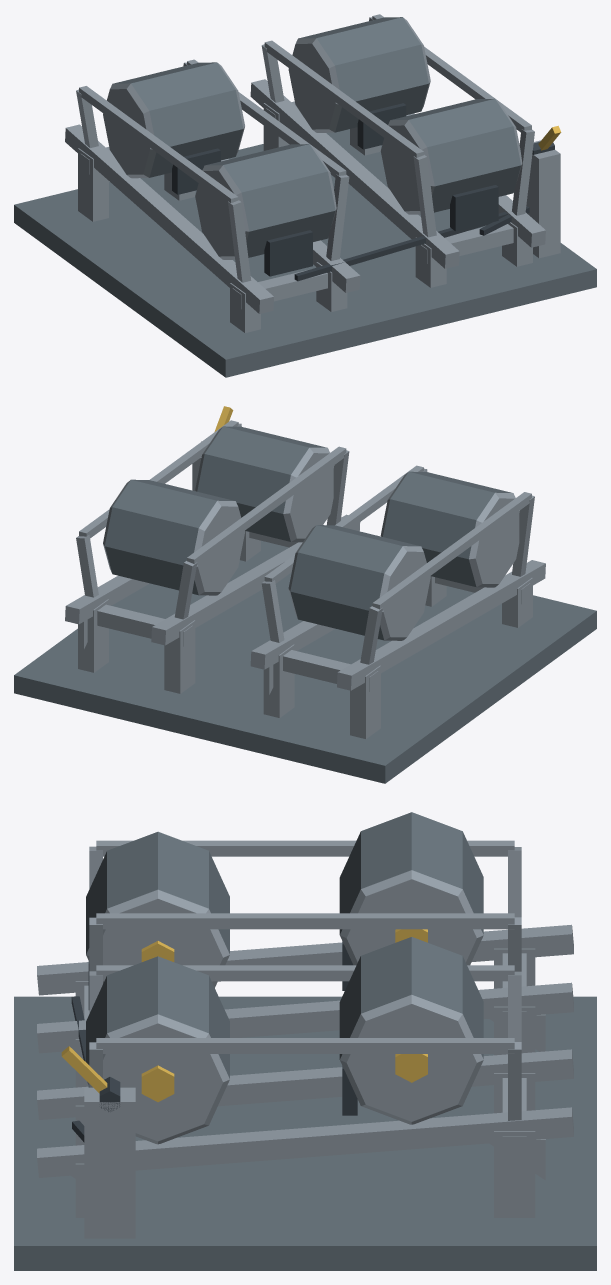
The model's file is MOD_DepthChargeRack.glb.
3 views of the same model, one above another, from view 1: azimuth 30°, elevation 25°; view 2: azimuth 150°, elevation 25°; view 3: azimuth 270°, elevation 25° (orthographic). The views are drawn at different scales.
Parts seen in each view (by area): view 1: DepthRackMountPlate, DepthCharge_04, DepthCharge_02, DepthCharge_03, DepthCharge_01, Rack_01_InclinedRail_01, Rack_02_InclinedRail_01, LocalReleasePedestal, Rack_01_GuardBeam_01, Rack_02_GuardBeam_01, Rack_02_ReleaseDetent_01, Rack_01_ReleaseDetent_01 (+21 smaller); view 2: DepthRackMountPlate, DepthCharge_04, DepthCharge_02, DepthCharge_01, DepthCharge_03, Rack_01_InclinedRail_01, Rack_02_InclinedRail_01, Rack_01_GuardBeam_01, Rack_02_GuardBeam_01, Rack_02_Support_01_02, Rack_01_Support_01_02, Rack_01_InclinedRail_02 (+14 smaller); view 3: DepthRackMountPlate, DepthCharge_04, DepthCharge_03, DepthCharge_02, Rack_02_InclinedRail_02, DepthCharge_01, LocalReleasePedestal, Rack_02_InclinedRail_01, Rack_01_GuardBeam_02, Rack_01_InclinedRail_02, Rack_02_GuardBeam_02, Rack_01_InclinedRail_01 (+15 smaller).
Part boxes in pixels (x1=…): DepthRackMountPlate: x1=14, y1=129, x2=596, y2=377; DepthCharge_04: x1=288, y1=17, x2=430, y2=132; DepthCharge_02: x1=103, y1=62, x2=244, y2=178; DepthCharge_03: x1=380, y1=98, x2=522, y2=214; DepthCharge_01: x1=195, y1=144, x2=336, y2=259; Rack_01_InclinedRail_01: x1=65, y1=124, x2=273, y2=313; Rack_02_InclinedRail_01: x1=250, y1=79, x2=459, y2=268; LocalReleasePedestal: x1=526, y1=140, x2=560, y2=258; Rack_01_GuardBeam_01: x1=79, y1=86, x2=238, y2=204; Rack_02_GuardBeam_01: x1=264, y1=40, x2=423, y2=159; Rack_02_ReleaseDetent_01: x1=450, y1=185, x2=498, y2=231; Rack_01_ReleaseDetent_01: x1=264, y1=230, x2=312, y2=276; DepthRackMountPlate: x1=14, y1=540, x2=596, y2=783; DepthCharge_04: x1=103, y1=479, x2=244, y2=595; DepthCharge_02: x1=288, y1=525, x2=430, y2=640; DepthCharge_01: x1=380, y1=471, x2=519, y2=587; DepthCharge_03: x1=195, y1=426, x2=333, y2=542; Rack_01_InclinedRail_01: x1=337, y1=560, x2=545, y2=690; Rack_02_InclinedRail_01: x1=151, y1=514, x2=360, y2=645; Rack_01_GuardBeam_01: x1=372, y1=492, x2=531, y2=612; Rack_02_GuardBeam_01: x1=187, y1=446, x2=346, y2=567; Rack_02_Support_01_02: x1=164, y1=620, x2=195, y2=693; Rack_01_Support_01_02: x1=350, y1=665, x2=380, y2=738; Rack_01_InclinedRail_02: x1=250, y1=621, x2=334, y2=669; DepthRackMountPlate: x1=14, y1=996, x2=596, y2=1270; DepthCharge_04: x1=339, y1=937, x2=483, y2=1124; DepthCharge_03: x1=86, y1=956, x2=229, y2=1144; DepthCharge_02: x1=339, y1=812, x2=483, y2=965; Rack_02_InclinedRail_02: x1=37, y1=1107, x2=573, y2=1177; DepthCharge_01: x1=86, y1=831, x2=229, y2=987; LocalReleasePedestal: x1=84, y1=1087, x2=135, y2=1238; Rack_02_InclinedRail_01: x1=37, y1=1049, x2=573, y2=1119; Rack_01_GuardBeam_02: x1=96, y1=913, x2=514, y2=929; Rack_01_InclinedRail_02: x1=37, y1=982, x2=573, y2=1053; Rack_02_GuardBeam_02: x1=96, y1=1038, x2=514, y2=1053; Rack_01_InclinedRail_01: x1=37, y1=924, x2=573, y2=995.
Bounding box in the file's own units: 1.72 × 0.7813 × 1.7.
